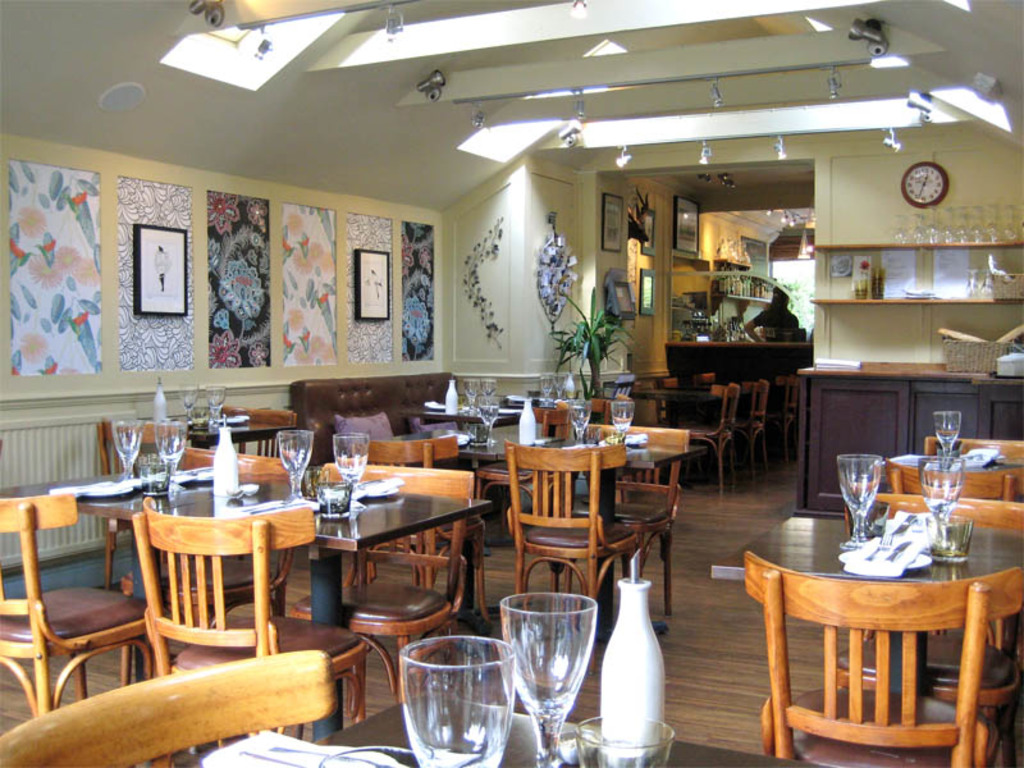Cabinetry: (804, 371, 911, 522), (911, 379, 988, 536), (982, 378, 1023, 536)
